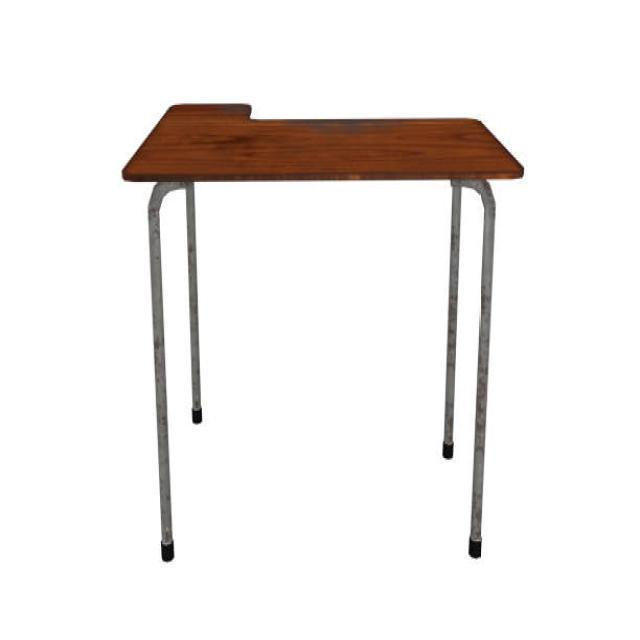table: (120, 101, 524, 564)
